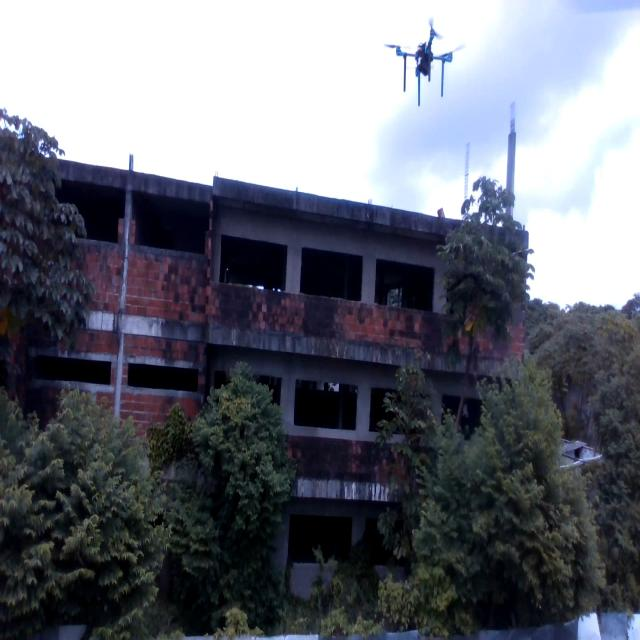-uav-: (376, 3, 473, 117)
